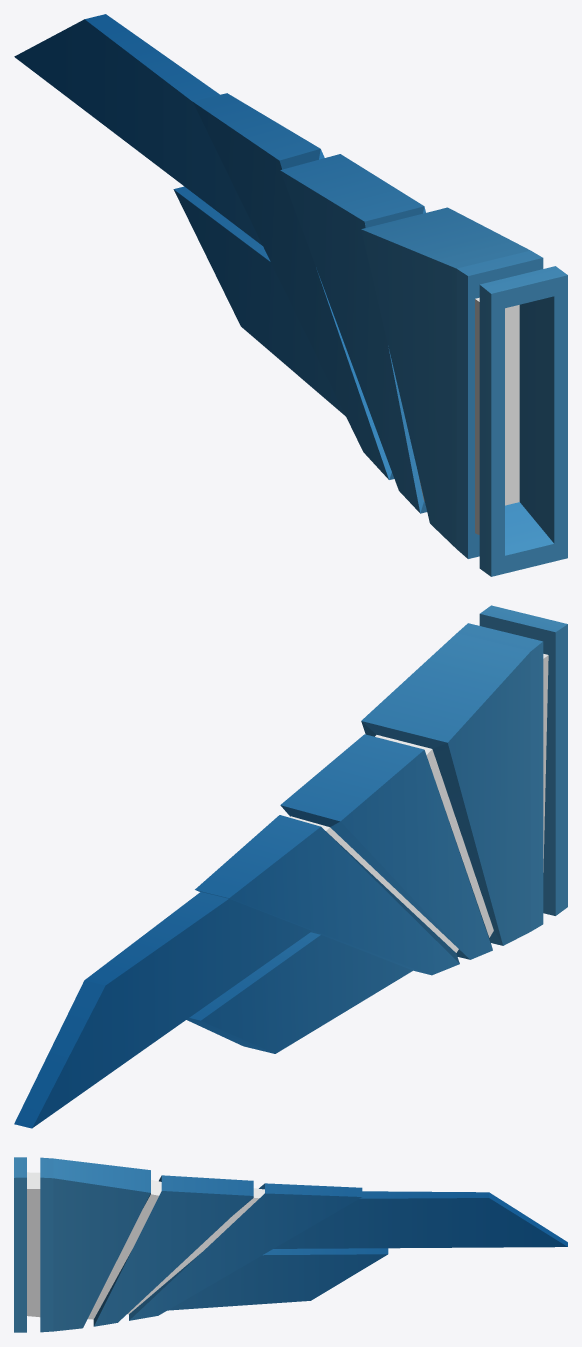
File: Gun.fbx
The picture shows the model from 3 angles, top to bottom: view 1: azimuth 30°, elevation 25°; view 2: azimuth 150°, elevation 25°; view 3: azimuth 270°, elevation 25°; orthographic projection. The views are drawn at different scales.
Visible parts, largest first — view 1: Weapon; view 2: Weapon; view 3: Weapon.
Part boxes in pixels (x1=…): Weapon: x1=14, y1=14, x2=567, y2=576; Weapon: x1=14, y1=605, x2=567, y2=1128; Weapon: x1=14, y1=1157, x2=567, y2=1332.
Bounding box in the file's own units: 18.62 × 58.32 × 189.
